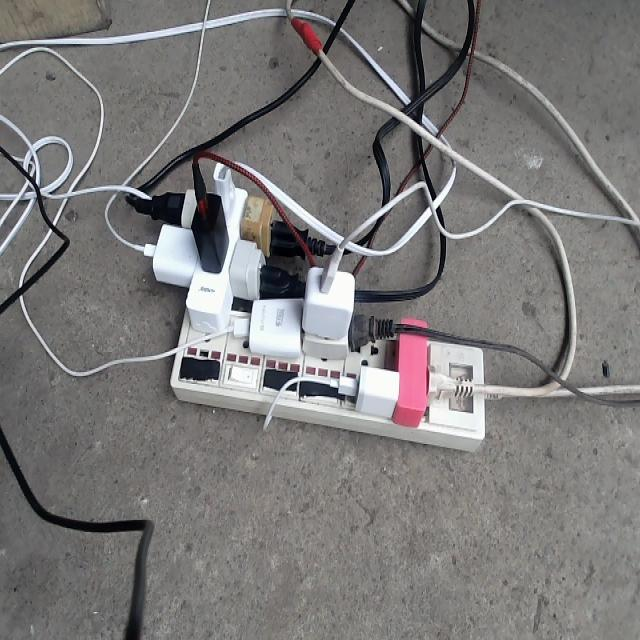-: (146, 147, 484, 452)
